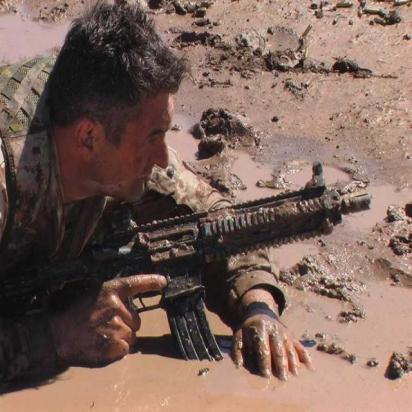Gun: (4, 155, 374, 381)
